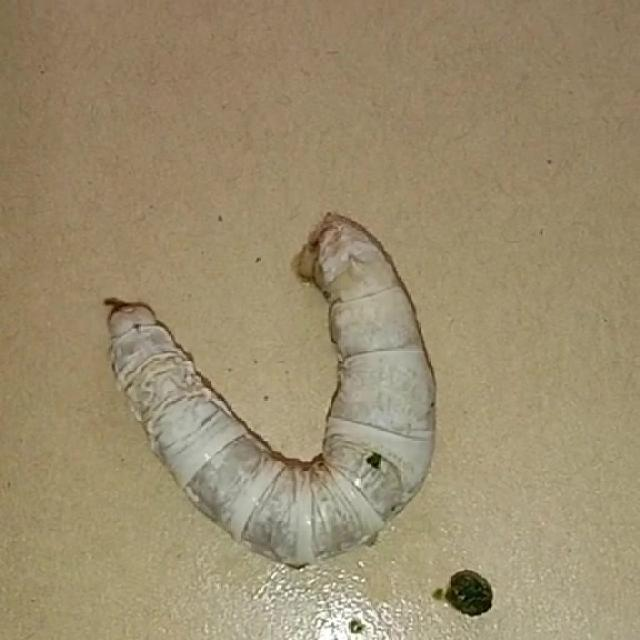Grasserie: (83, 199, 485, 591)
